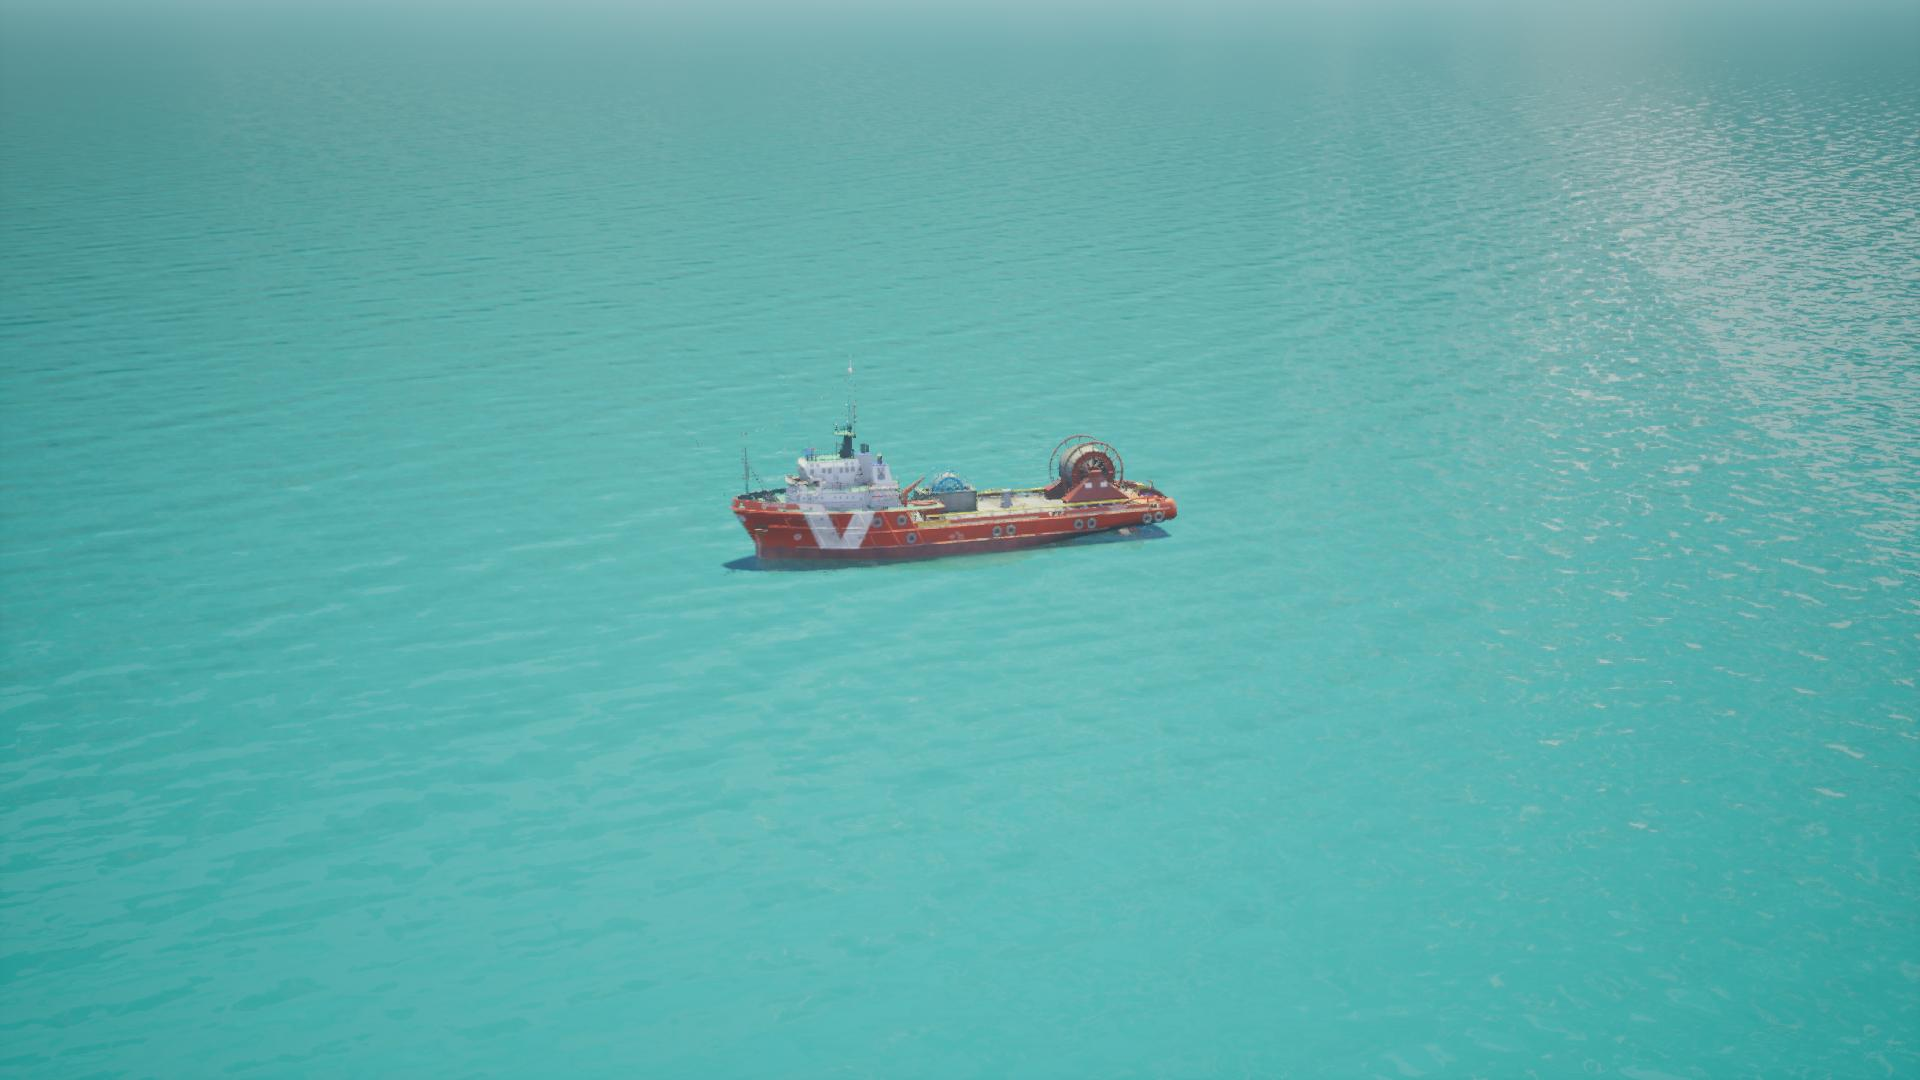Tug Boat: (728, 407, 1172, 572)
